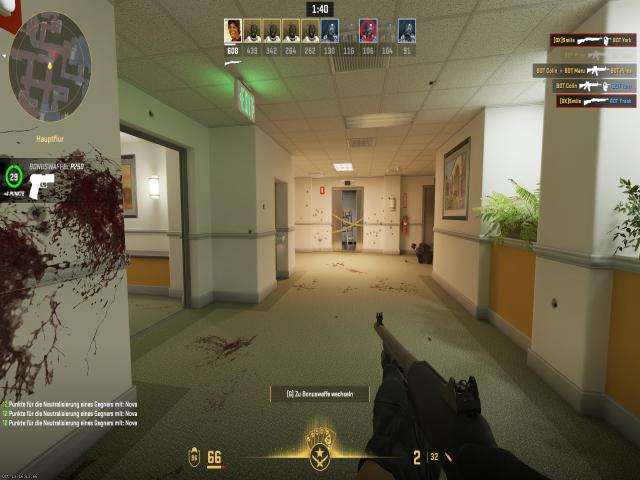CT-Head: (415, 243, 434, 264)
